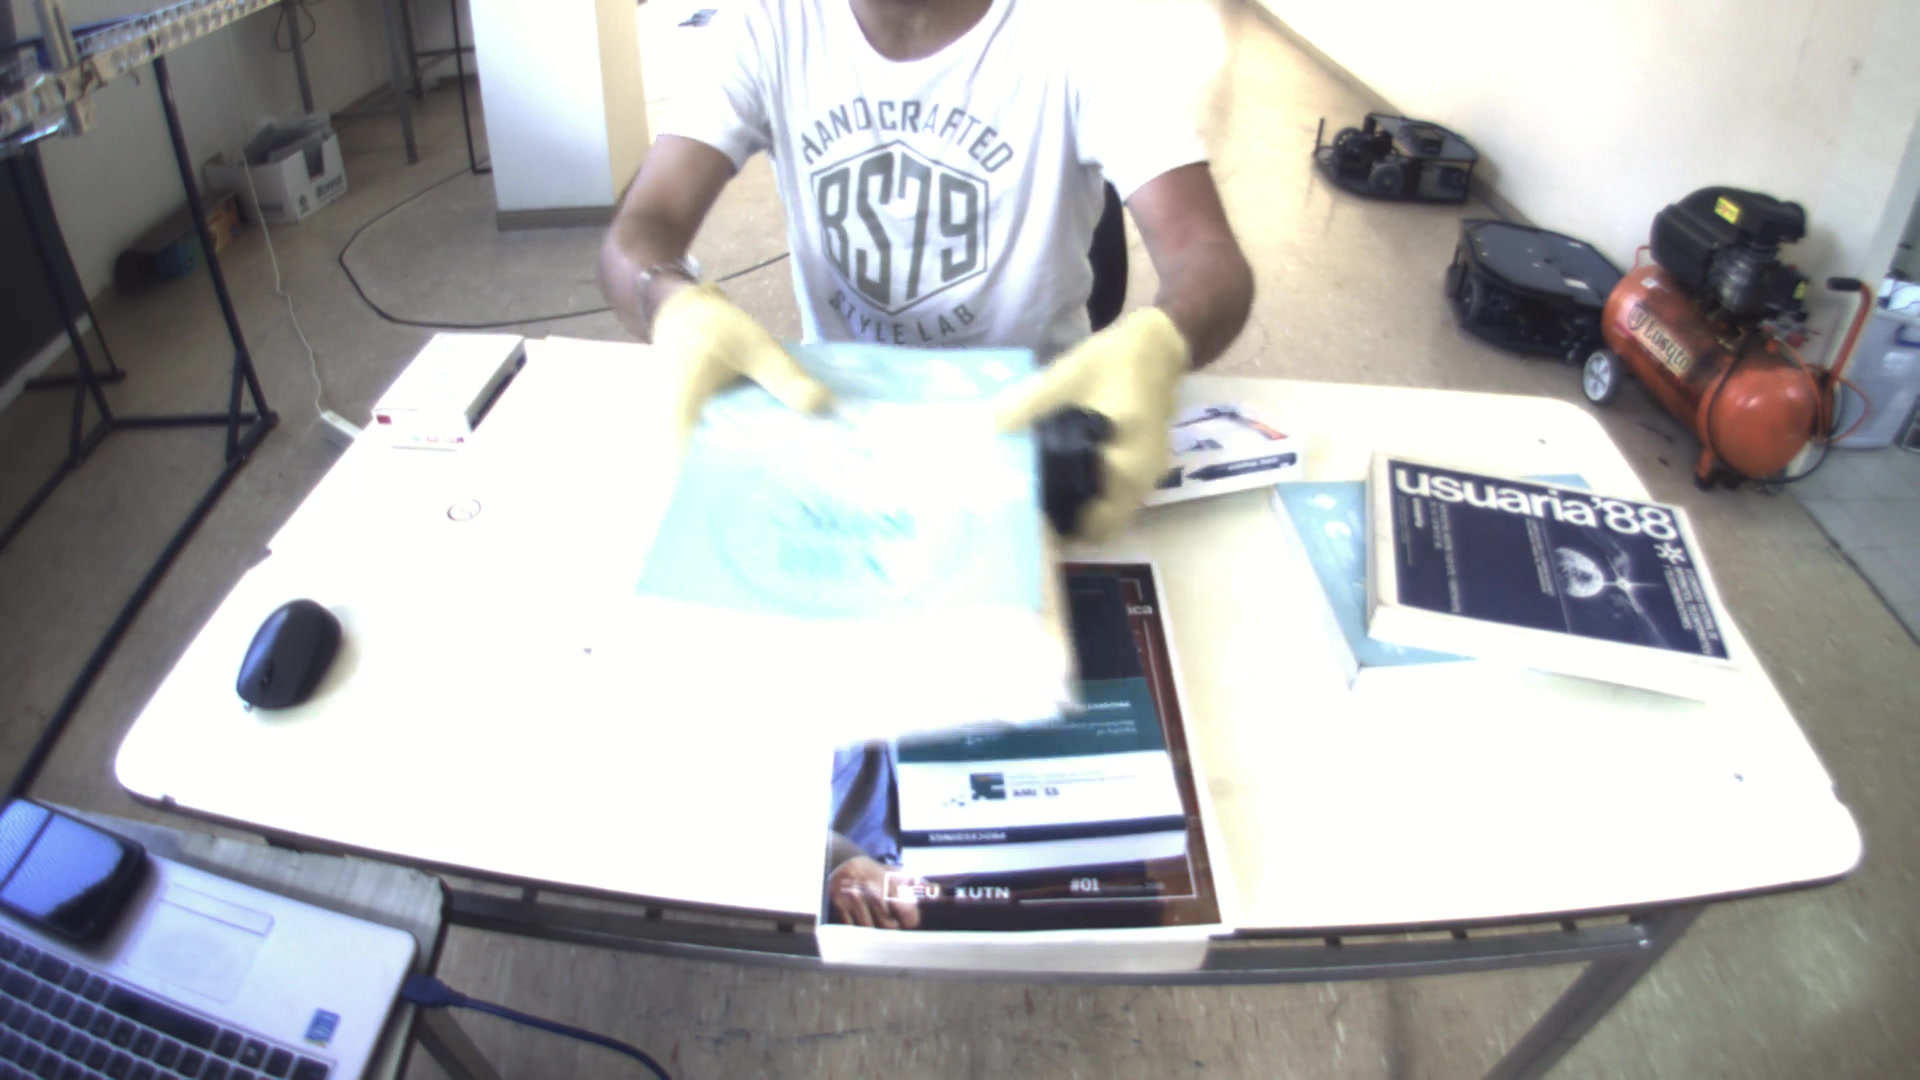hand: (998, 293, 1201, 535), (646, 272, 831, 458)
